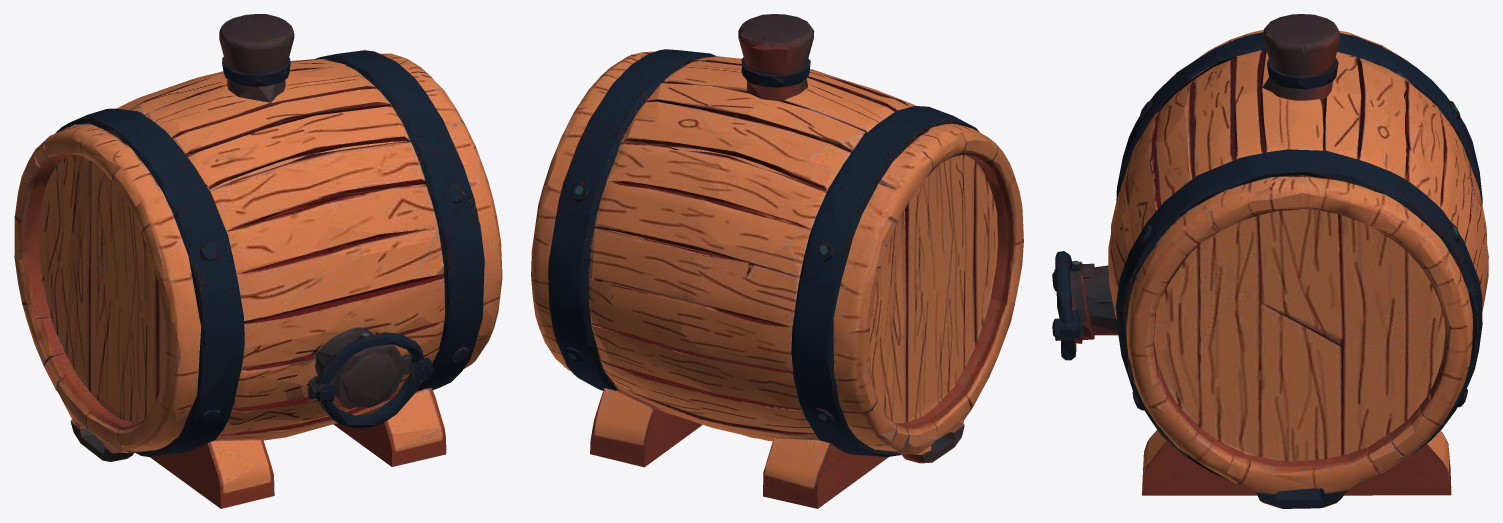
The model's file is barrel.glb.
3 renders of one model, left to right at view 1: azimuth 30°, elevation 25°; view 2: azimuth 150°, elevation 25°; view 3: azimuth 270°, elevation 25°, orthographic. The views are drawn at different scales.
Bounding box in the file's own units: 1.66 × 1.9 × 1.82.
1 material, 1 textured.
